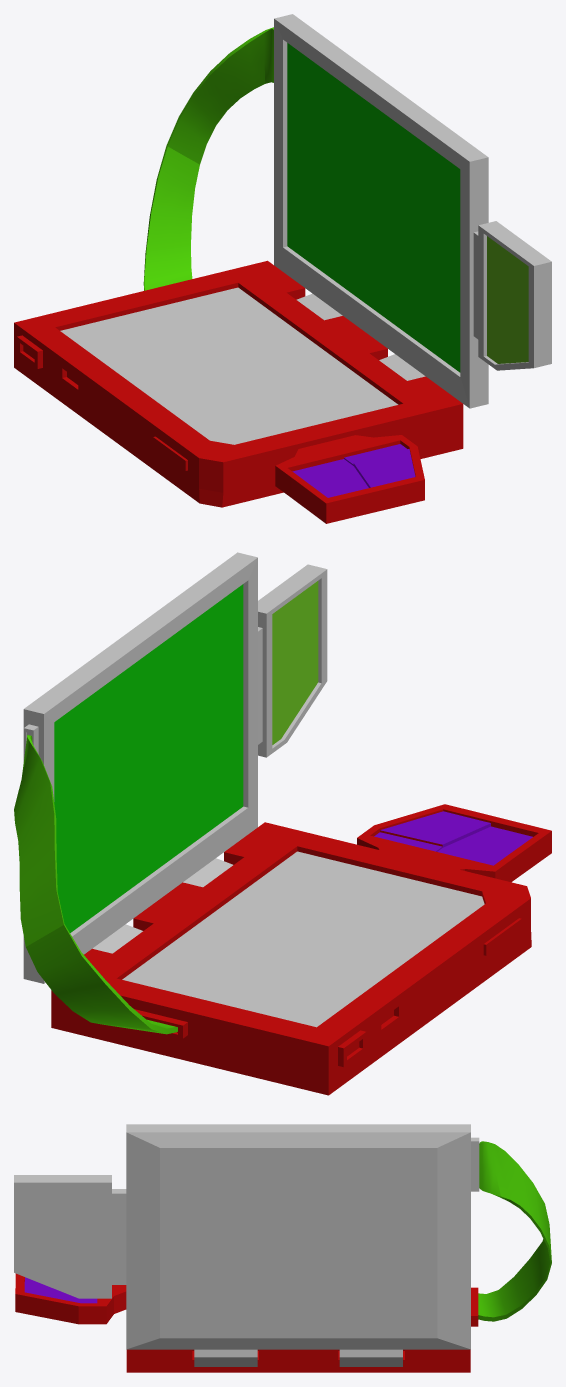
The model's file is Laptop.dae.
The picture shows the model from 3 angles, top to bottom: view 1: azimuth 30°, elevation 25°; view 2: azimuth 150°, elevation 25°; view 3: azimuth 270°, elevation 25°; orthographic projection. The views are drawn at different scales.
Visible parts, largest first — view 1: Cube.001 (×3), Cube (×3), Plane; view 2: Cube.001 (×3), Cube (×3), Plane; view 3: Cube, Cube.001 (×2), Plane.
Part boxes in pixels (left/top/right/bottom): Cube.001 (×3): left=14, top=260, right=463, bottom=523; Cube (×3): left=274, top=14, right=551, bottom=408; Plane: left=143, top=27, right=273, bottom=290; Cube.001 (×3): left=51, top=804, right=551, bottom=1095; Cube (×3): left=23, top=552, right=327, bottom=983; Plane: left=14, top=735, right=177, bottom=1034; Cube: left=14, top=1124, right=479, bottom=1366; Cube.001 (×2): left=15, top=1273, right=478, bottom=1372; Plane: left=478, top=1141, right=551, bottom=1321.
Bounding box in the file's own units: 0.5866 × 0.5527 × 1.07.
